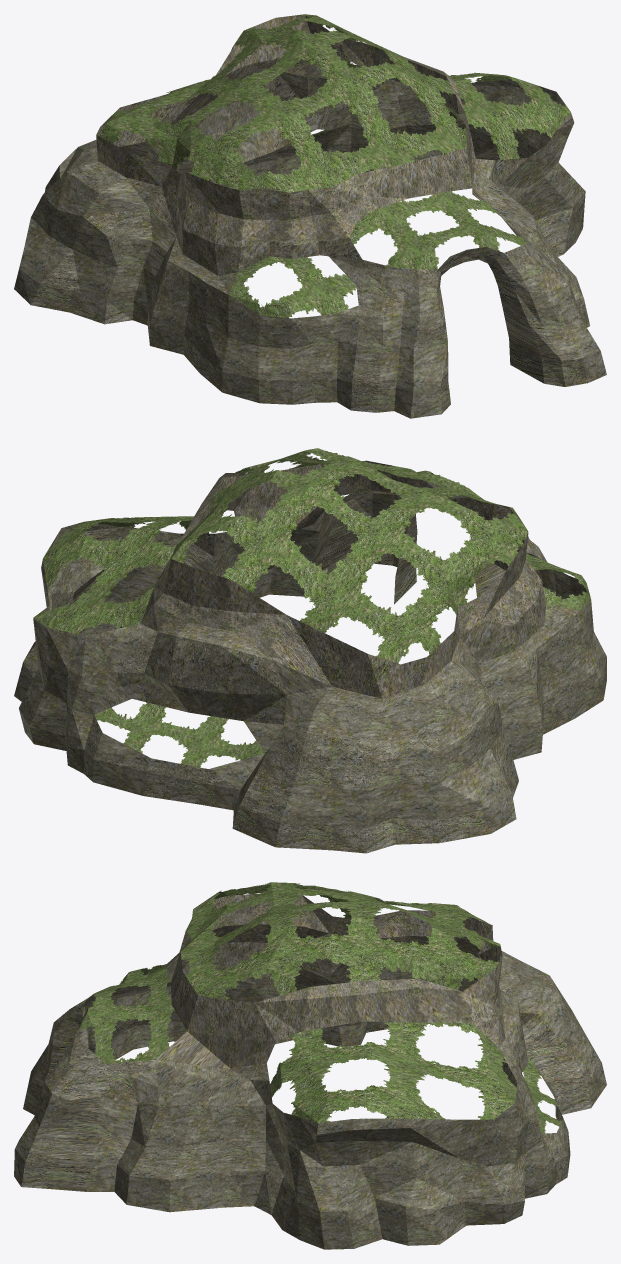
File: poi_all_lair_cave_small_r0_mesh_l1.fbx
3 renders of one model, top to bottom at view 1: azimuth 30°, elevation 25°; view 2: azimuth 150°, elevation 25°; view 3: azimuth 270°, elevation 25°, orthographic. The views are drawn at different scales.
Visible parts, largest first — view 1: mesh_node; view 2: mesh_node; view 3: mesh_node.
Boxes of the visible parts, bbox=[...] form: mesh_node: bbox=[14, 14, 606, 418]; mesh_node: bbox=[14, 448, 606, 853]; mesh_node: bbox=[14, 882, 606, 1249].
Size of the model in its own units: 24.68 by 11.25 by 26.43.
